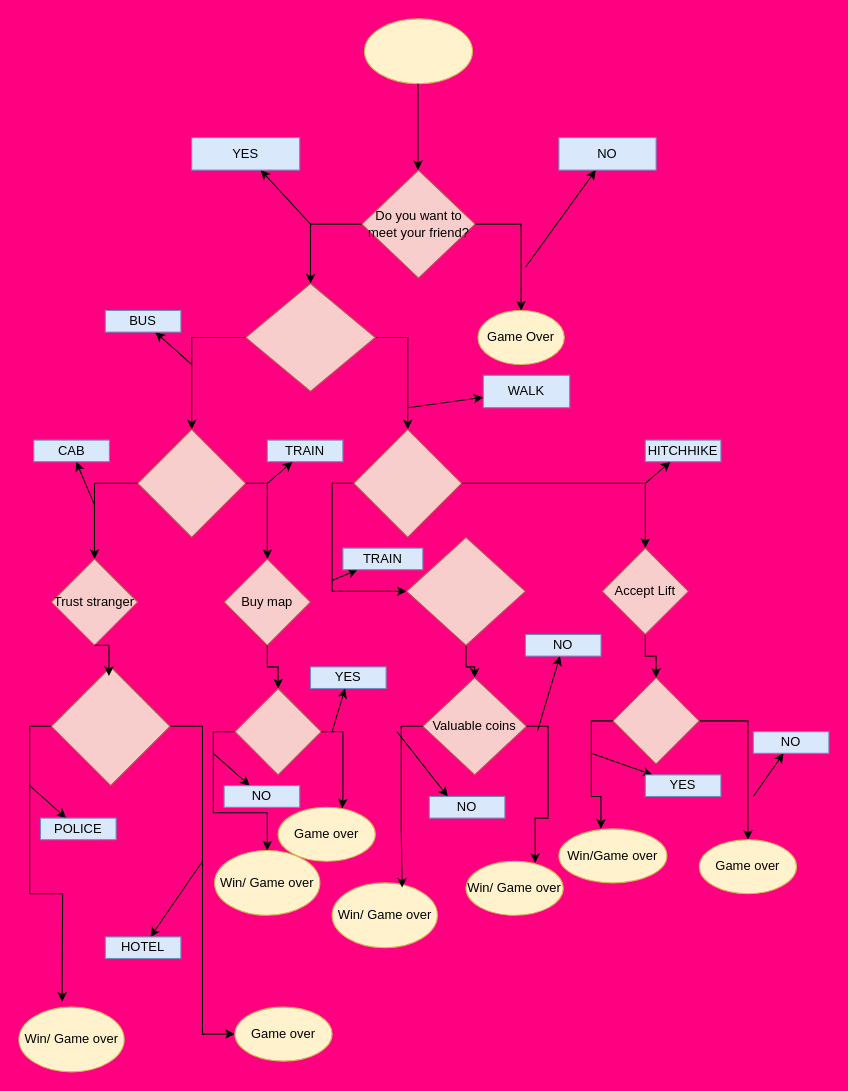
This 848x1091 diagram has some shape labels left out. The shapes that lost their labels are listed below. From the top down, each one's box as (x1, y1, x2, y2) in pixels, then its label:
(363, 18, 473, 84): Start Game
(245, 282, 375, 392): Take the bus or walk?
(137, 428, 246, 537): Take cab or train?
(353, 428, 462, 537): Take train or hitchhike?
(406, 536, 525, 645): Buy mystery box
(50, 666, 170, 786): Call police or stay hotel
(234, 687, 321, 775): Shortcut
(612, 677, 699, 764): Help fix truck
